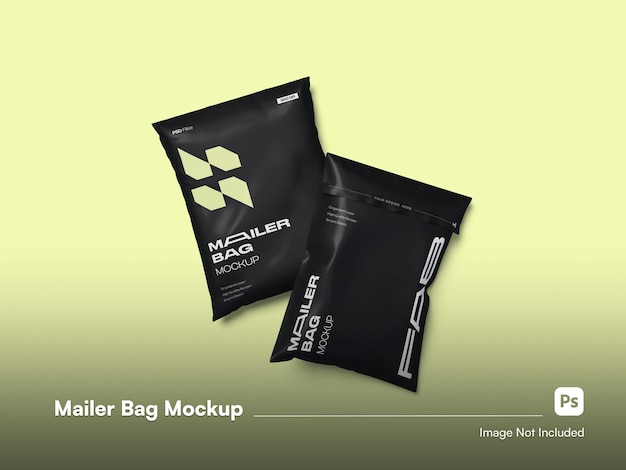塑料袋: (153, 77, 470, 391)
